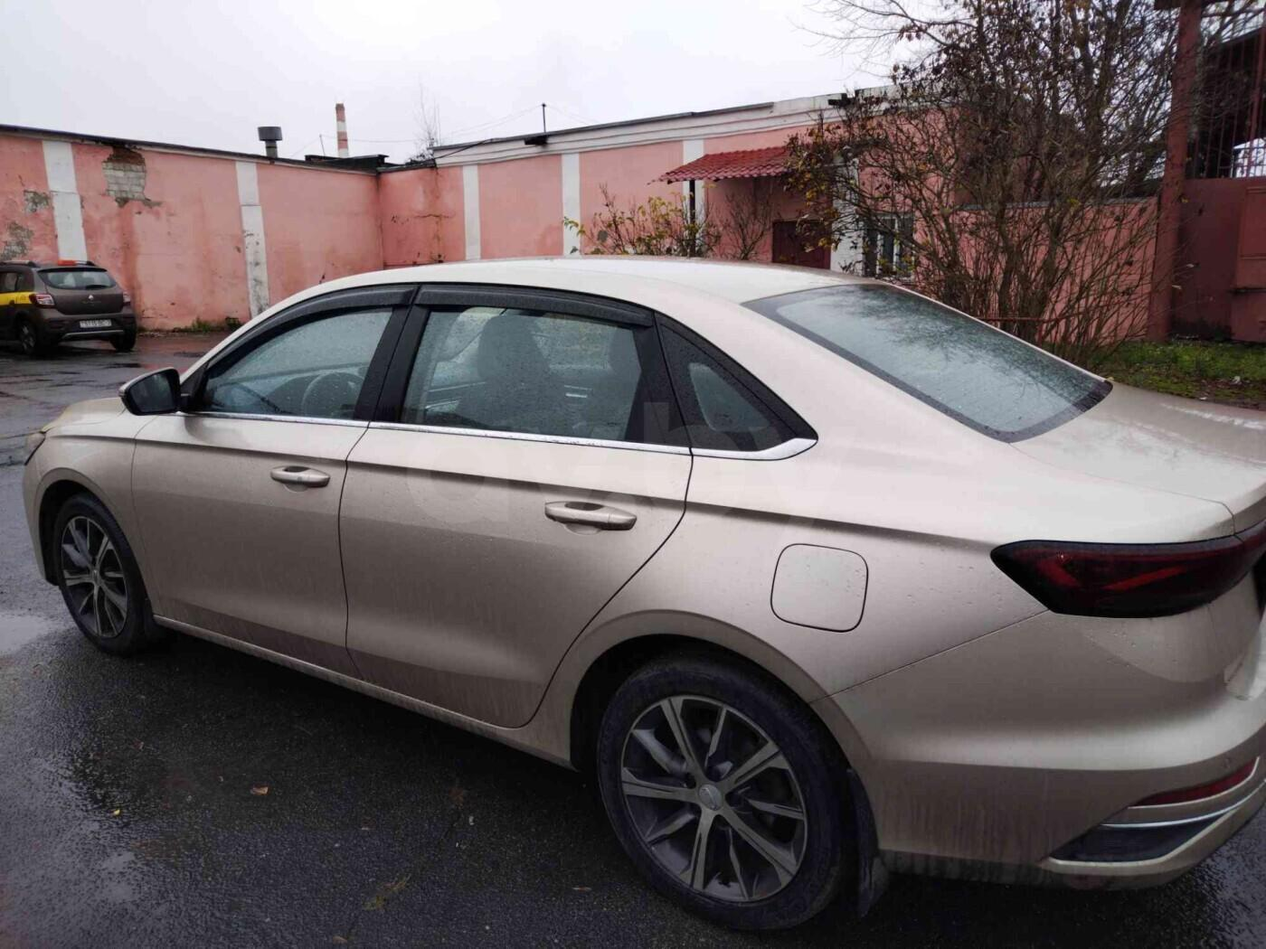Emgrand_2021: (23, 257, 1265, 929)
